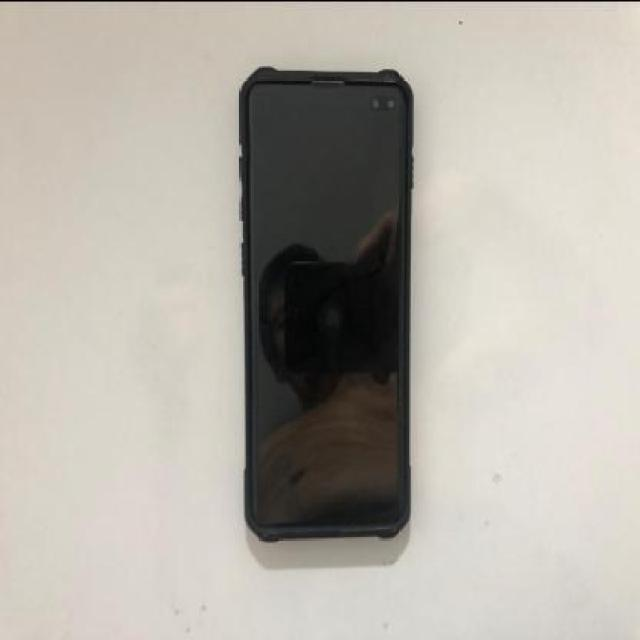mobile: (238, 66, 412, 540)
